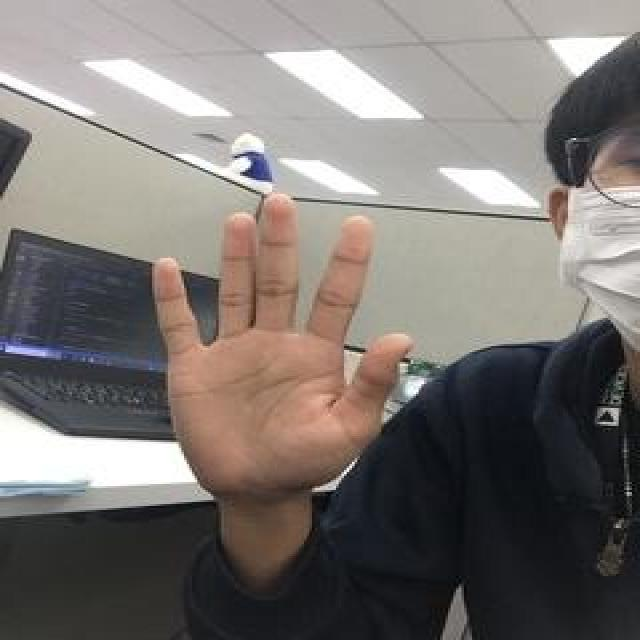hand: (155, 190, 414, 496)
